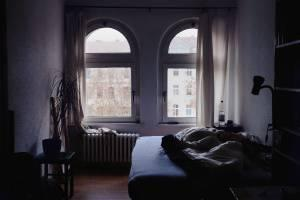window: (79, 17, 206, 122)
